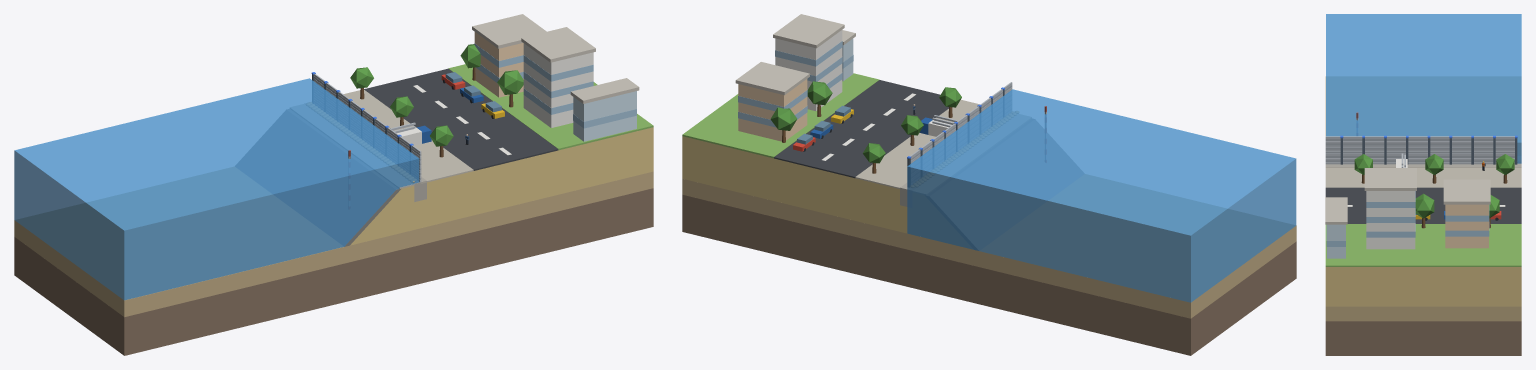
The model's file is mobilgat.glb.
3 renders of one model, left to right at view 1: azimuth 30°, elevation 25°; view 2: azimuth 150°, elevation 25°; view 3: azimuth 270°, elevation 25°, orthographic. The views are drawn at different scales.
Parts seen in each view (by area): view 1: folyo, part_m_c9b48c, part_m_8f7a68, part_m_e0c98f, part_m_8c8a86, part_m_4a4e55, part_m_cfcac0, part_m_c9c4b8, part_m_f4f3ef, part_m_a9c8de, part_m_8fbf6a, part_m_cfe3ef (+3 smaller); view 2: folyo, part_m_c9b48c, part_m_8f7a68, part_m_e0c98f, part_m_8c8a86, part_m_4a4e55, part_m_8fbf6a, part_m_c9c4b8, part_m_cfcac0, part_m_f4f3ef, part_m_f2d7b6, part_m_5e9e4a (+2 smaller); view 3: folyo, part_m_c9b48c, part_m_e0c98f, part_m_8f7a68, part_m_8fbf6a, g_m_c0c7cf (×7), part_m_cfcac0, part_m_4a4e55, g_m_aeb6bf (×6), part_m_c9c4b8, part_m_f4f3ef, part_m_a9c8de (+5 smaller).
Boxes of the visible parts, <box> form: folyo: <box>14,78,419,300</box>; part_m_c9b48c: <box>14,167,653,317</box>; part_m_8f7a68: <box>14,188,653,355</box>; part_m_e0c98f: <box>350,127,653,245</box>; part_m_8c8a86: <box>235,109,400,246</box>; part_m_4a4e55: <box>364,68,558,170</box>; part_m_cfcac0: <box>472,14,639,103</box>; part_m_c9c4b8: <box>290,90,473,188</box>; part_m_f4f3ef: <box>348,43,593,158</box>; part_m_a9c8de: <box>474,43,636,128</box>; part_m_8fbf6a: <box>448,64,653,150</box>; part_m_cfe3ef: <box>573,91,636,141</box>; folyo: <box>907,89,1296,302</box>; part_m_c9b48c: <box>682,174,1296,318</box>; part_m_8f7a68: <box>682,194,1296,355</box>; part_m_e0c98f: <box>682,136,972,248</box>; part_m_8c8a86: <box>926,119,1083,250</box>; part_m_4a4e55: <box>774,80,948,178</box>; part_m_8fbf6a: <box>682,73,879,158</box>; part_m_c9c4b8: <box>855,99,1031,194</box>; part_m_cfcac0: <box>735,14,855,95</box>; part_m_f4f3ef: <box>775,30,1046,160</box>; part_m_f2d7b6: <box>738,79,807,141</box>; part_m_5e9e4a: <box>770,81,961,163</box>; folyo: <box>1326,14,1521,163</box>; part_m_c9b48c: <box>1325,76,1521,321</box>; part_m_e0c98f: <box>1325,267,1521,306</box>; part_m_8f7a68: <box>1325,321,1521,355</box>; part_m_8fbf6a: <box>1325,224,1521,266</box>; g_m_c0c7cf (×7): <box>1325,136,1514,164</box>; part_m_cfcac0: <box>1325,168,1490,224</box>; part_m_4a4e55: <box>1325,187,1521,223</box>; g_m_aeb6bf (×6): <box>1325,139,1514,162</box>; part_m_c9c4b8: <box>1325,156,1521,187</box>; part_m_f4f3ef: <box>1347,118,1505,249</box>; part_m_a9c8de: <box>1326,191,1489,246</box>.
Size of the model in its own units: 0.5 by 0.1545 by 0.1803.
